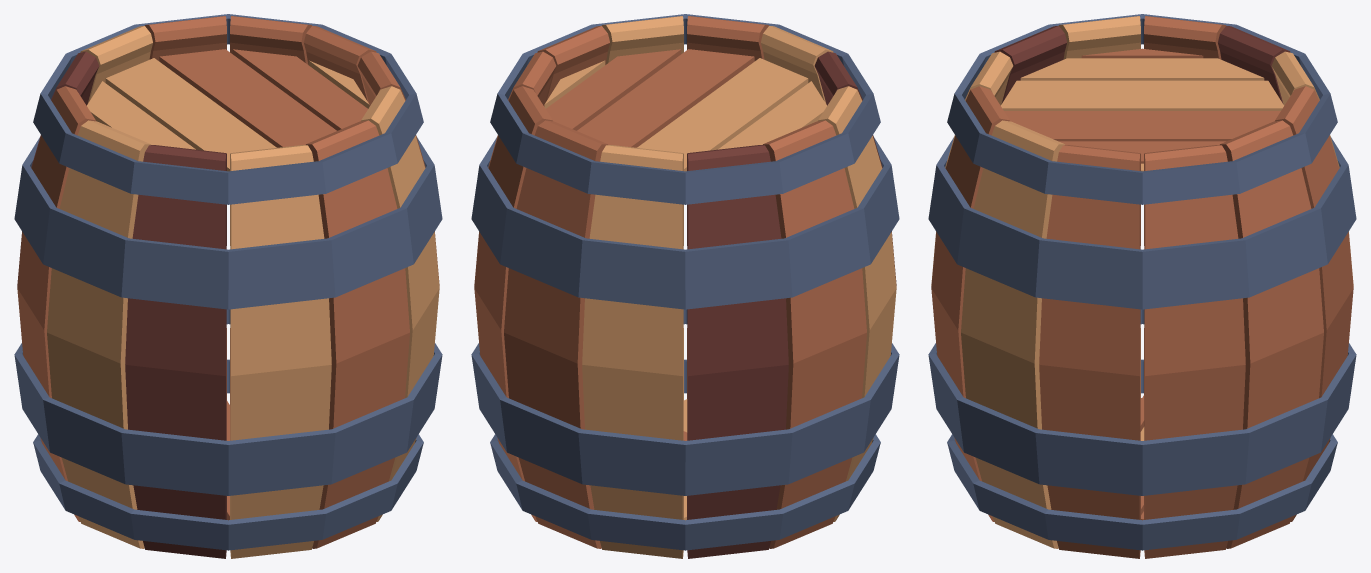
The model's file is Barrel 1_7.fbx.
3 renders of one model, left to right at view 1: azimuth 30°, elevation 25°; view 2: azimuth 150°, elevation 25°; view 3: azimuth 270°, elevation 25°, orthographic.
Parts seen in each view (by area): view 1: Barrel 1_7; view 2: Barrel 1_7; view 3: Barrel 1_7.
Boxes of the visible parts, bbox=[...] form: Barrel 1_7: bbox=[14, 14, 442, 558]; Barrel 1_7: bbox=[471, 14, 899, 558]; Barrel 1_7: bbox=[928, 14, 1356, 558].
Size of the model in its own units: 85.59 by 89.17 by 85.59.
